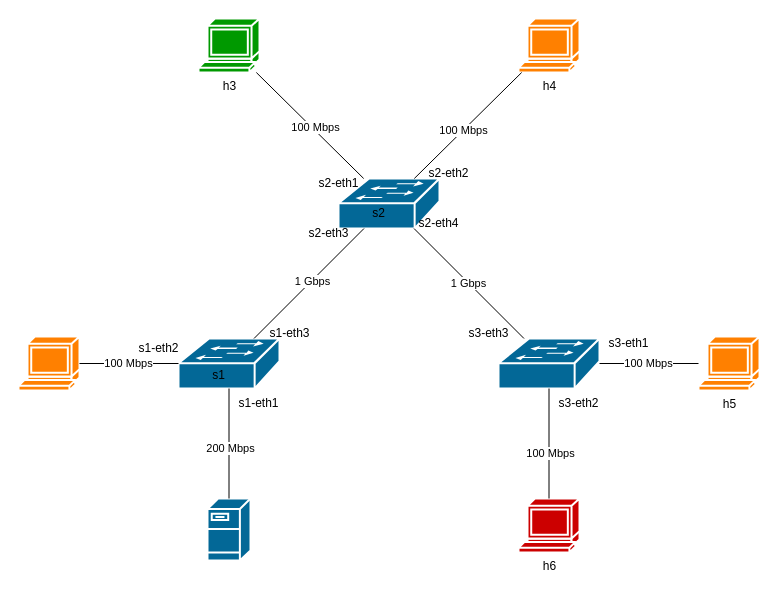
Image size: 777x598. Some labels were removed from this diagram. Here are the shapes that lost their labels. From the top down, the centre of each, then its label:
At (48,363): "h2".
At (548,363): "s3".
At (228,529): "h1".
